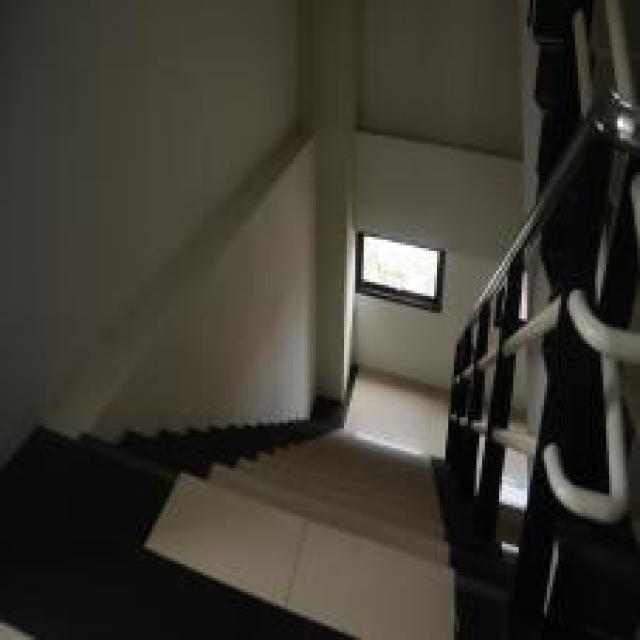downstair: (145, 421, 455, 638)
